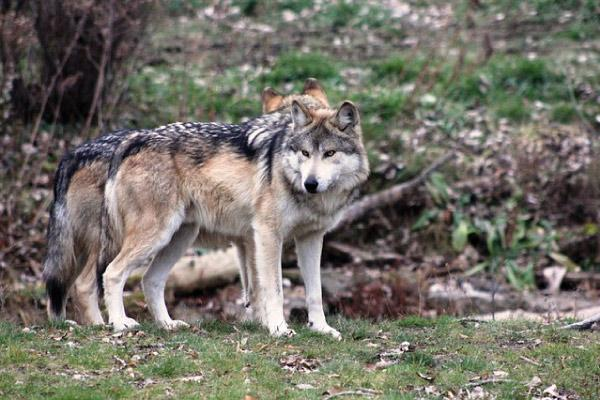Lobo: (72, 99, 375, 327)
